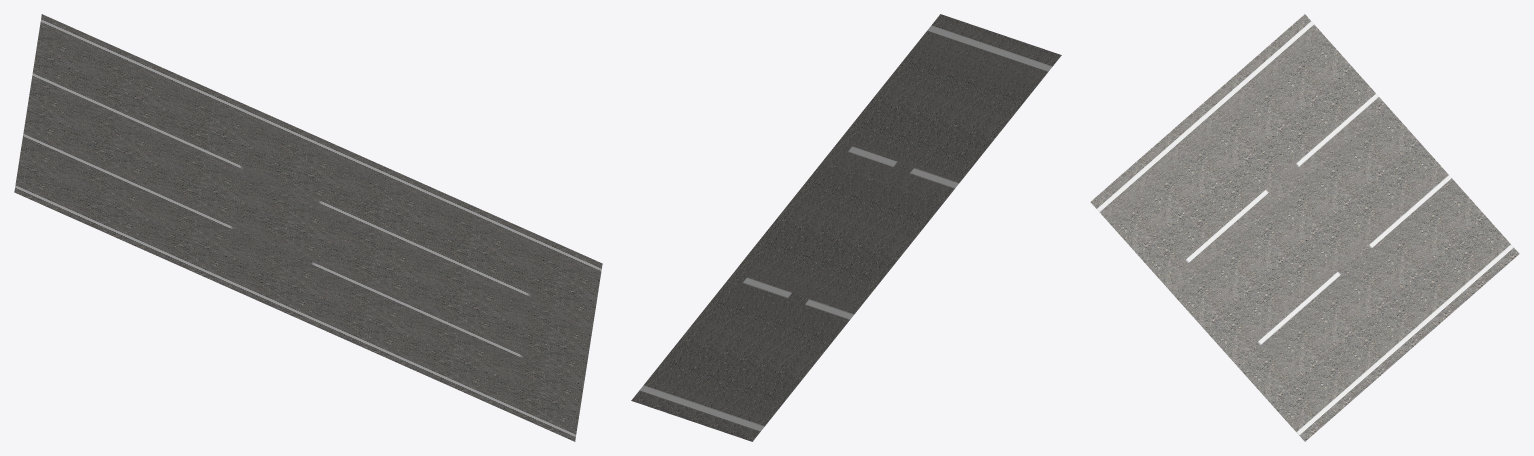
File: road.glb
3 renders of one model, left to right at view 1: azimuth 30°, elevation 25°; view 2: azimuth 150°, elevation 25°; view 3: azimuth 270°, elevation 25°, orthographic. The views are drawn at different scales.
Visible parts, largest first — view 1: Road 2_Material.002_0; view 2: Road 2_Material.002_0; view 3: Road 2_Material.002_0.
Part boxes in pixels (bbox=[...]): Road 2_Material.002_0: bbox=[14, 14, 602, 441]; Road 2_Material.002_0: bbox=[631, 14, 1061, 441]; Road 2_Material.002_0: bbox=[1090, 14, 1519, 441].
Size of the model in its own units: 5 by 5 by 6.67.
Materials: 1 (1 with a texture image).
